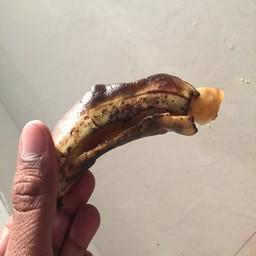Bad_banana: (37, 69, 228, 197)
